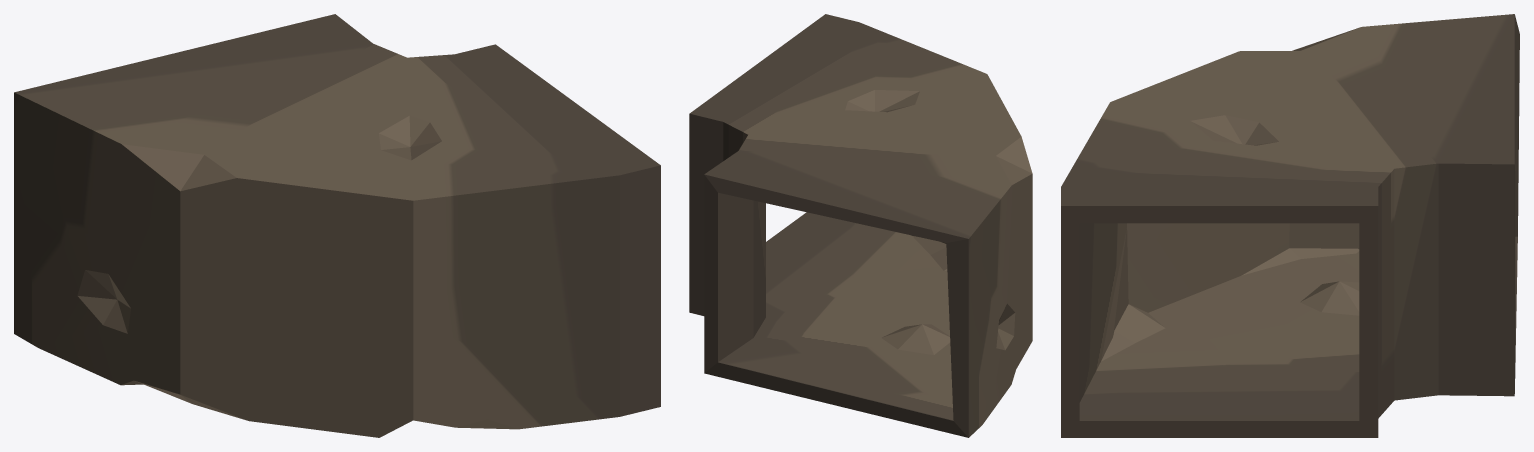
File: SM_Prop_AirDuct_Corner_01.obj
3 views of the same model, side by side, from view 1: azimuth 30°, elevation 25°; view 2: azimuth 150°, elevation 25°; view 3: azimuth 270°, elevation 25° (orthographic). The views are drawn at different scales.
Parts seen in each view (by area): view 1: SM_Prop_AirDuct_Corner_01_0; view 2: SM_Prop_AirDuct_Corner_01_0; view 3: SM_Prop_AirDuct_Corner_01_0.
Boxes of the visible parts, left/top/right/bottom form: SM_Prop_AirDuct_Corner_01_0: left=14, top=14, right=660, bottom=437; SM_Prop_AirDuct_Corner_01_0: left=689, top=14, right=1032, bottom=437; SM_Prop_AirDuct_Corner_01_0: left=1061, top=14, right=1519, bottom=437.
Size of the model in its own units: 0.8707 by 0.4899 by 0.8789.
1 material, 1 textured.
